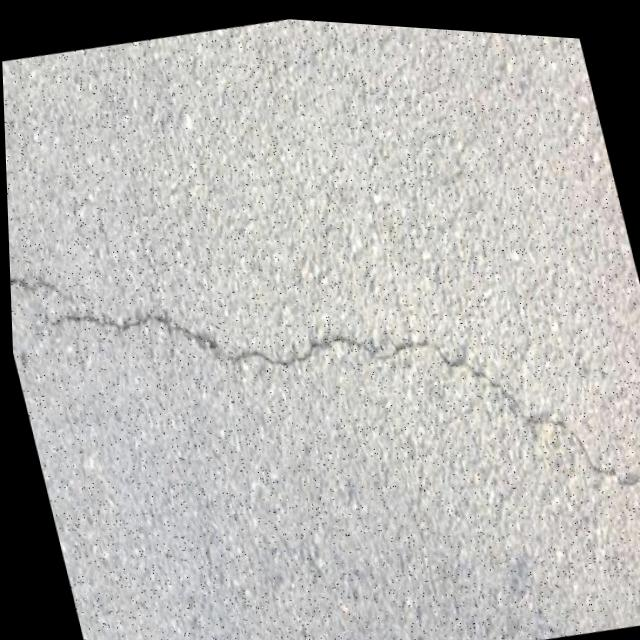Crack: (4, 140, 640, 629)
